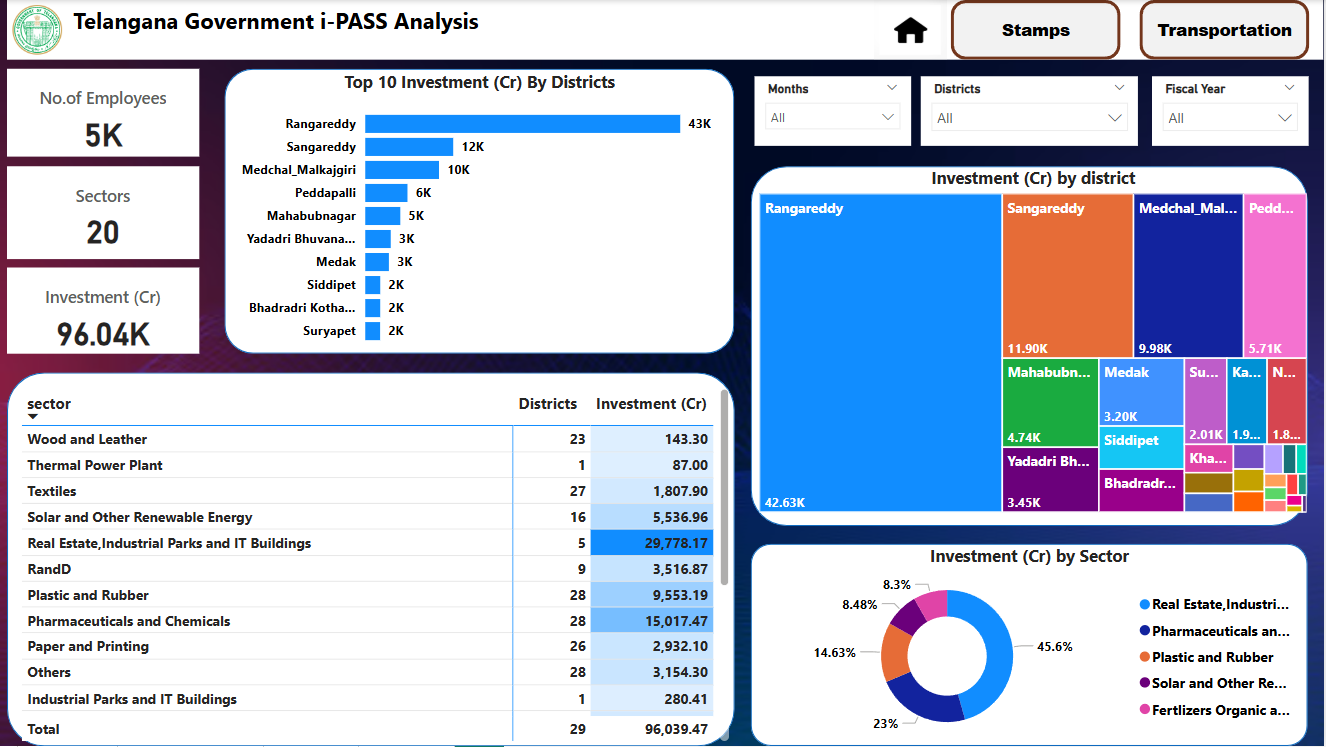

This screenshot's page, from the dashboard's own definition file:
{"tool":"powerbi","page":{"name":"i-PASS","canvas":[1280,720],"ordinal":3},"visuals":[{"type":"cardVisual","fields":{"Data":["Telangana District.Sectors"]},"box":[9.7,160.5,185.8,89.3],"z":0},{"type":"cardVisual","fields":{"Data":["Telangana District.No.of Employees"]},"box":[9.7,66.4,185.8,84.5],"z":1000},{"type":"cardVisual","fields":{"Data":["Telangana District.Investment (Cr)"]},"box":[9.7,258.2,185.8,83.2],"z":2000},{"type":"textbox","box":[9.7,0,1270.4,57.9],"z":3000},{"type":"shape","box":[219.6,66.4,492.2,275.1],"z":4000},{"type":"shape","box":[9.7,359.5,702.1,360.7],"z":5000},{"type":"shape","box":[727.5,524.8,538.1,195.4],"z":6000},{"type":"barChart","title":"Investment (Cr) By Districts","fields":{"Category":["Telangana District.district"],"Y":["Telangana District.Investment (Cr)"]},"box":[219.6,67.6,492.2,275.1],"z":7000},{"type":"pivotTable","fields":{"Rows":["Telangana District.sector"],"Values":["Telangana District.Districts","Telangana District.Investment (Cr)"]},"box":[19.3,370.4,692.5,349.9],"z":8000},{"type":"donutChart","title":"Investment (Cr) by Sector","fields":{"Category":["Telangana District.sector"],"Y":["Telangana District.Investment (Cr)"]},"box":[727.5,524.8,538.1,195.4],"z":9000},{"type":"shape","box":[727.5,160.5,538.1,347.5],"z":10000},{"type":"treemap","fields":{"Group":["Telangana District.district"],"Values":["Telangana District.Investment (Cr)"]},"box":[731.1,160.5,538.1,339],"z":11000},{"type":"slicer","fields":{"Values":["Telangana District.fiscal_year"]},"box":[1114.8,73.6,150.8,67.6],"z":12000},{"type":"slicer","fields":{"Values":["Telangana District.Month"]},"box":[730.9,73.1,150.8,67.6],"z":13000},{"type":"slicer","fields":{"Values":["Telangana District.district"]},"box":[891.6,73.6,209.9,67.6],"z":14000},{"type":"image","box":[847.4,0,69.2,57.7],"z":15000},{"type":"actionButton","box":[920.5,0,164.1,57.7],"z":16000},{"type":"actionButton","box":[1102.6,0,164.1,57.7],"z":17000},{"type":"image","box":[8.4,0,61.5,57.9],"z":18000}]}

Visuals, with their boxes in screenshot pixels (x1, y1, x2, y2), scaled from the page's 1280x720 canvas onto the 1326x747 screenshot:
cardVisual - Telangana District.Sectors: 10:167:203:259
cardVisual - Telangana District.No.of Employees: 10:69:203:157
cardVisual - Telangana District.Investment (Cr): 10:268:203:354
textbox: 10:0:1325:60
shape: 227:69:737:354
shape: 10:373:737:746
shape: 754:544:1311:746
"Investment (Cr) By Districts" barChart: 227:70:737:356
pivotTable - Telangana District.sector x Telangana District.Districts: 20:384:737:746
"Investment (Cr) by Sector" donutChart: 754:544:1311:746
shape: 754:167:1311:527
treemap - Telangana District.district x Telangana District.Investment (Cr): 757:167:1315:518
slicer - Telangana District.fiscal_year: 1155:76:1311:146
slicer - Telangana District.Month: 757:76:913:146
slicer - Telangana District.district: 924:76:1141:146
image: 878:0:950:60
actionButton: 954:0:1124:60
actionButton: 1142:0:1312:60
image: 9:0:72:60
